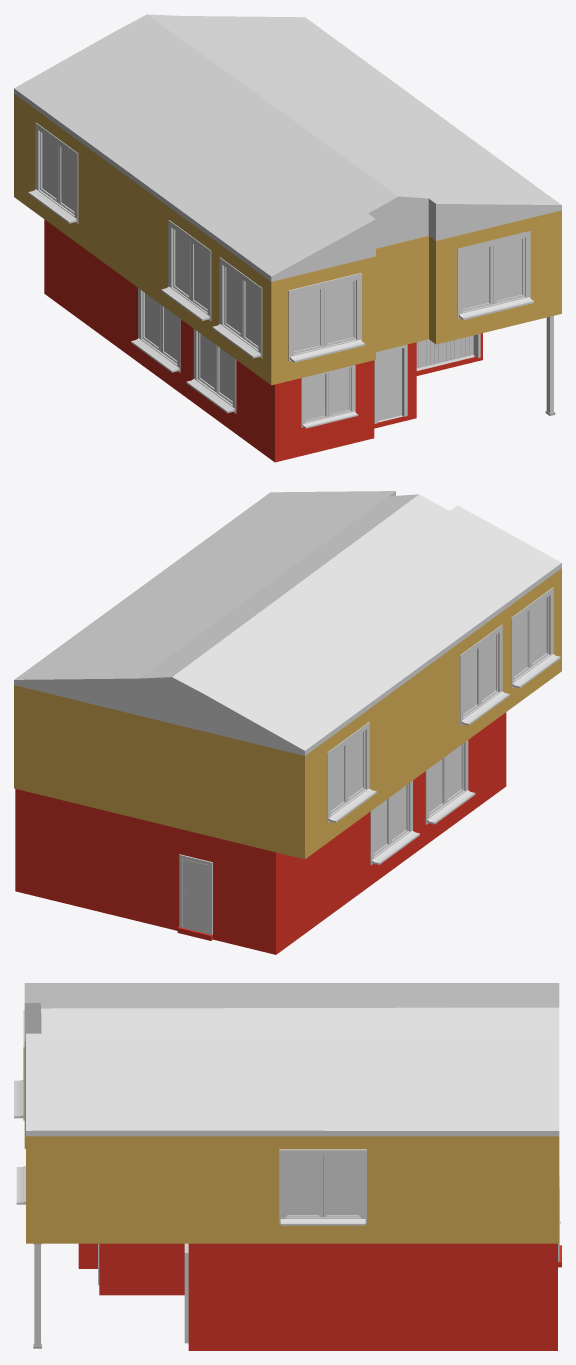
File: Nuevacasa.fbx
3 renders of one model, top to bottom at view 1: azimuth 30°, elevation 25°; view 2: azimuth 150°, elevation 25°; view 3: azimuth 270°, elevation 25°, orthographic. The views are drawn at different scales.
Visible parts, largest first — view 1: Cubo.002, Cubo.001, Cubo, Window Panel.006, Window Panel.009, Window Panel.008, Window.003, Window Panel.007, Window.004, Panel, Window.006, Window.007 (+19 smaller); view 2: Cubo.002, Cubo.001, Cubo, Panel.002, Window.006, Window.007, Window.005, Window Panel.012, Window Panel.015, Window Panel.011, Window Panel.010, Window.001 (+8 smaller); view 3: Cubo.002, Cubo.001, Cubo, Window Panel.017, Window Panel.016, Window.008, Column, Window.003, Door.003.
Part boxes in pixels (<box>): Cubo.002: <box>14,14,561,281</box>; Cubo.001: <box>14,94,561,385</box>; Cubo: <box>44,219,482,462</box>; Window Panel.006: <box>324,280,355,346</box>; Window Panel.009: <box>493,237,524,304</box>; Window Panel.008: <box>462,245,493,311</box>; Window.003: <box>288,273,365,362</box>; Window Panel.007: <box>294,287,324,353</box>; Window.004: <box>457,231,533,320</box>; Panel: <box>378,348,401,420</box>; Window.006: <box>212,257,262,358</box>; Window.007: <box>28,122,78,223</box>; Cubo.002: <box>14,491,561,755</box>; Cubo.001: <box>14,568,561,859</box>; Cubo: <box>15,712,506,954</box>; Panel.002: <box>182,859,208,934</box>; Window.006: <box>511,587,560,688</box>; Window.007: <box>327,722,376,823</box>; Window.005: <box>460,624,509,725</box>; Window Panel.012: <box>530,596,548,667</box>; Window Panel.015: <box>347,731,365,801</box>; Window Panel.011: <box>480,633,497,704</box>; Window Panel.010: <box>463,646,480,716</box>; Window.001: <box>425,740,475,824</box>; Cubo.002: <box>24,983,559,1136</box>; Cubo.001: <box>24,1041,559,1243</box>; Cubo: <box>78,1243,561,1350</box>; Window Panel.017: <box>285,1155,322,1217</box>; Window Panel.016: <box>323,1155,360,1217</box>; Window.008: <box>279,1149,366,1225</box>; Column: <box>34,1244,40,1346</box>; Window.003: <box>14,1010,24,1120</box>; Door.003: <box>184,1243,188,1343</box>.
Size of the model in its own units: 560 by 438 by 827.
